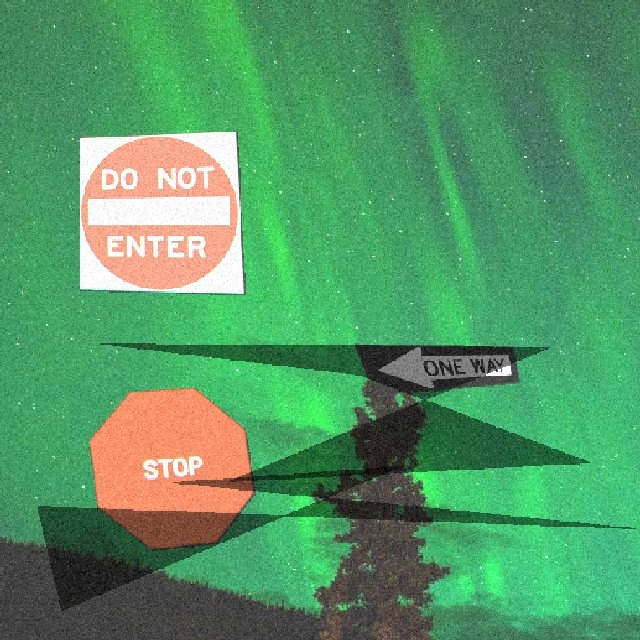DO_NOT_ENTER: (77, 129, 244, 294)
ONE_WAY_ left: (352, 342, 519, 395)
STOP: (87, 386, 254, 550)
